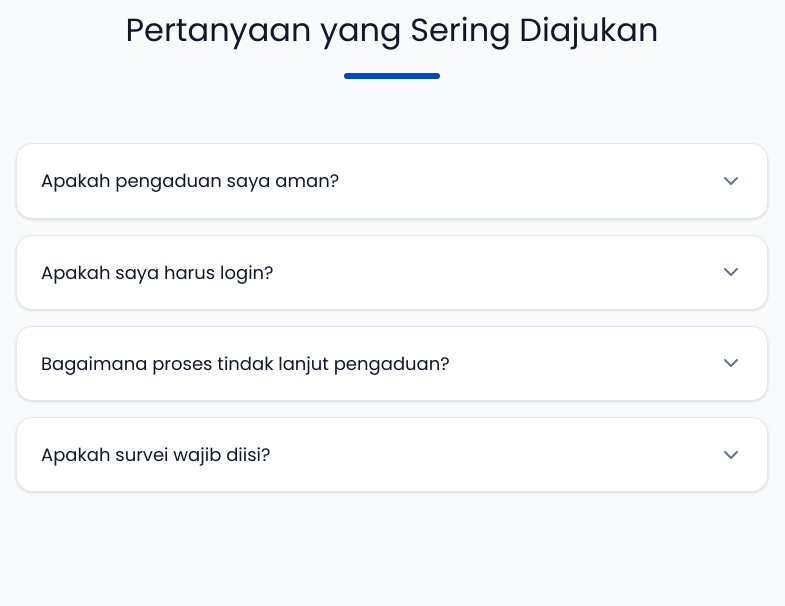
it: FAQSection — akordeon › membuka satu menutup yang lain; panel tertutup tersembunyi
Click the button "Apakah pengaduan saya aman?": (190, 181) [17,144,767,218]
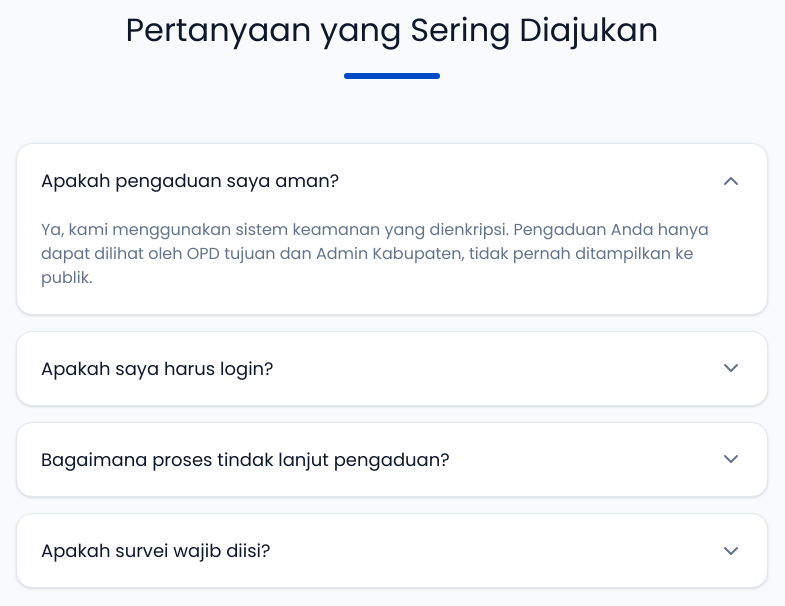
Check: the button "Apakah pengaduan saya aman?" is expanded, box [17,144,767,218]
Click the button "Apakah saya harus login?": (157, 368) [17,332,767,405]
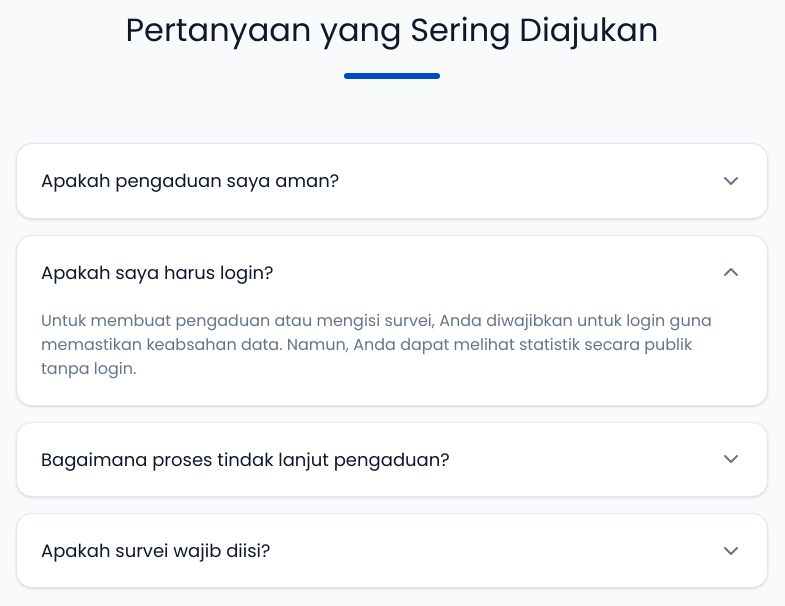
Check: the button "Apakah pengaduan saya aman?" is collapsed, box [17,144,767,218]
Check: the button "Apakah saya harus login?" is expanded, box [17,236,767,309]
